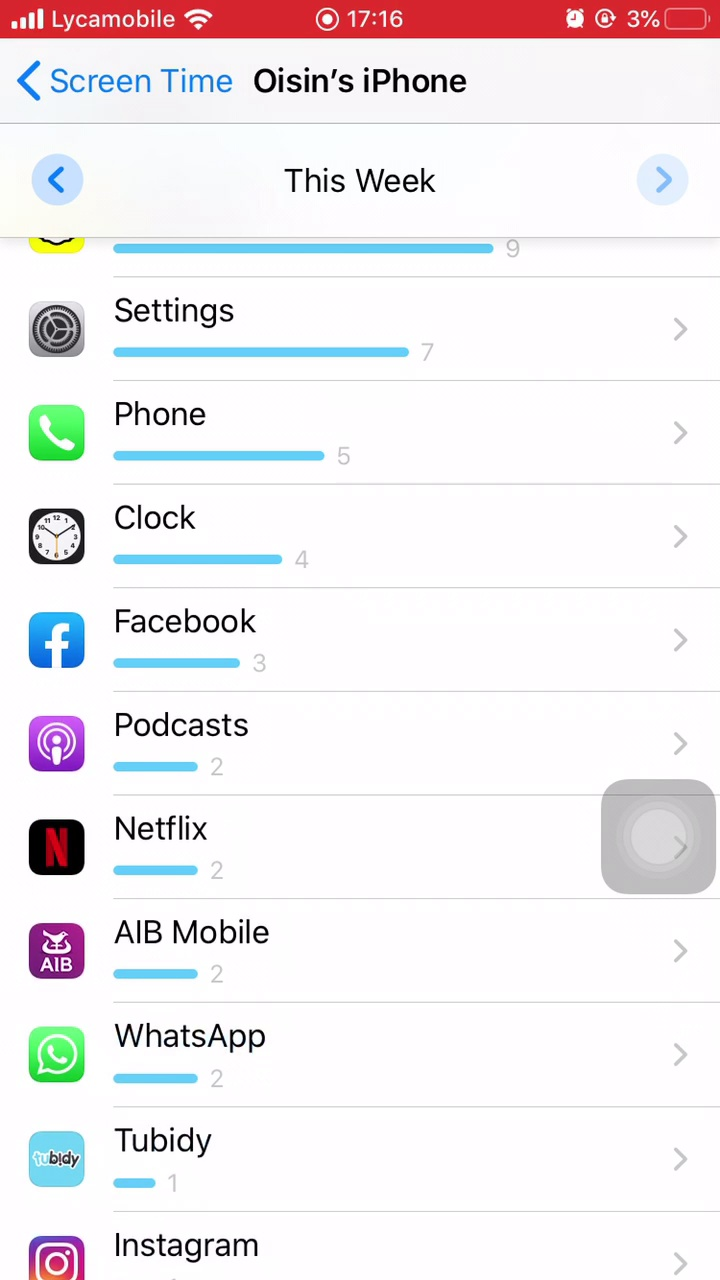pick_app: (15, 277, 504, 389), (18, 1003, 373, 1111), (18, 692, 367, 800), (14, 396, 415, 486), (18, 491, 390, 588), (15, 1108, 364, 1208), (17, 589, 350, 689), (17, 803, 334, 903), (17, 908, 350, 1000)
week: (262, 150, 448, 201)
